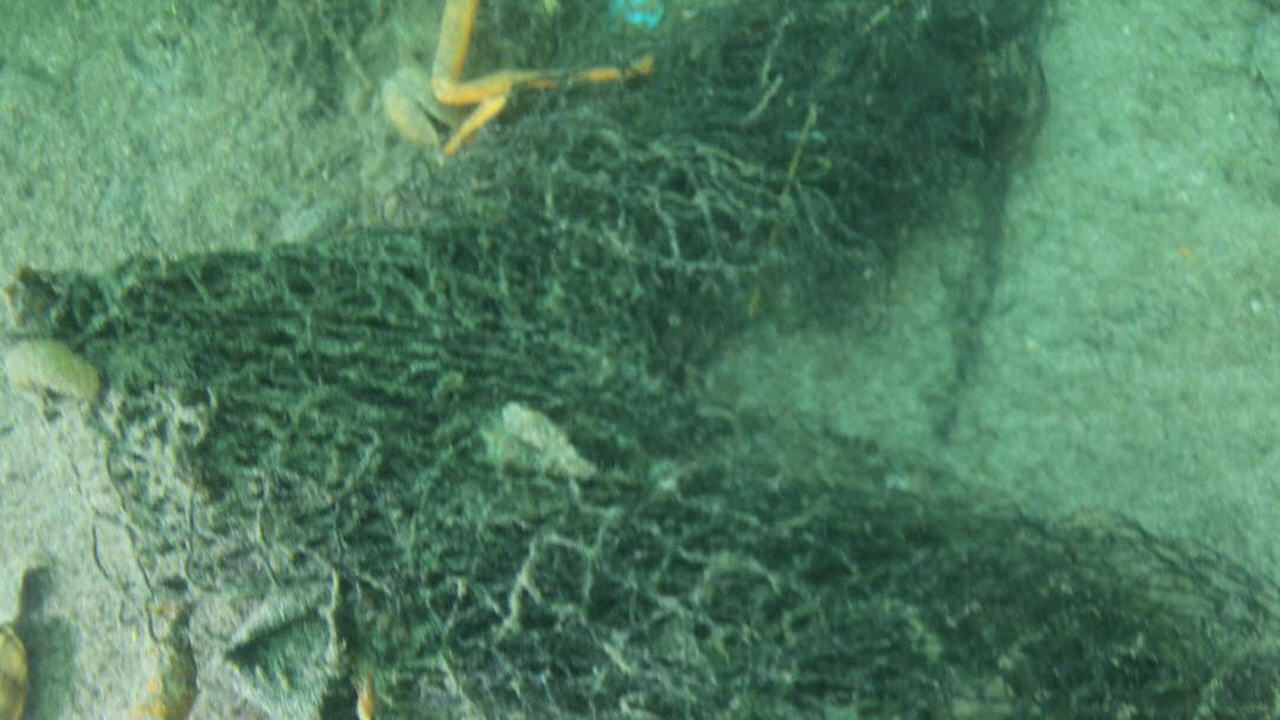fish net: (4, 0, 1280, 720)
